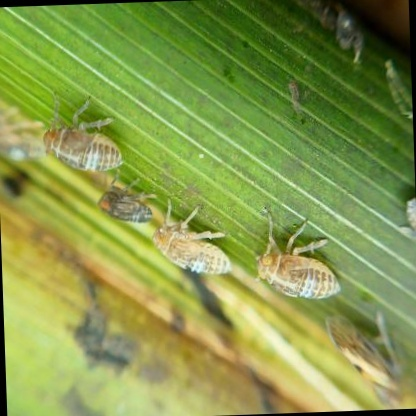Brown_hopper: (241, 207, 357, 307), (25, 89, 135, 179), (142, 198, 235, 290), (78, 166, 174, 226)
